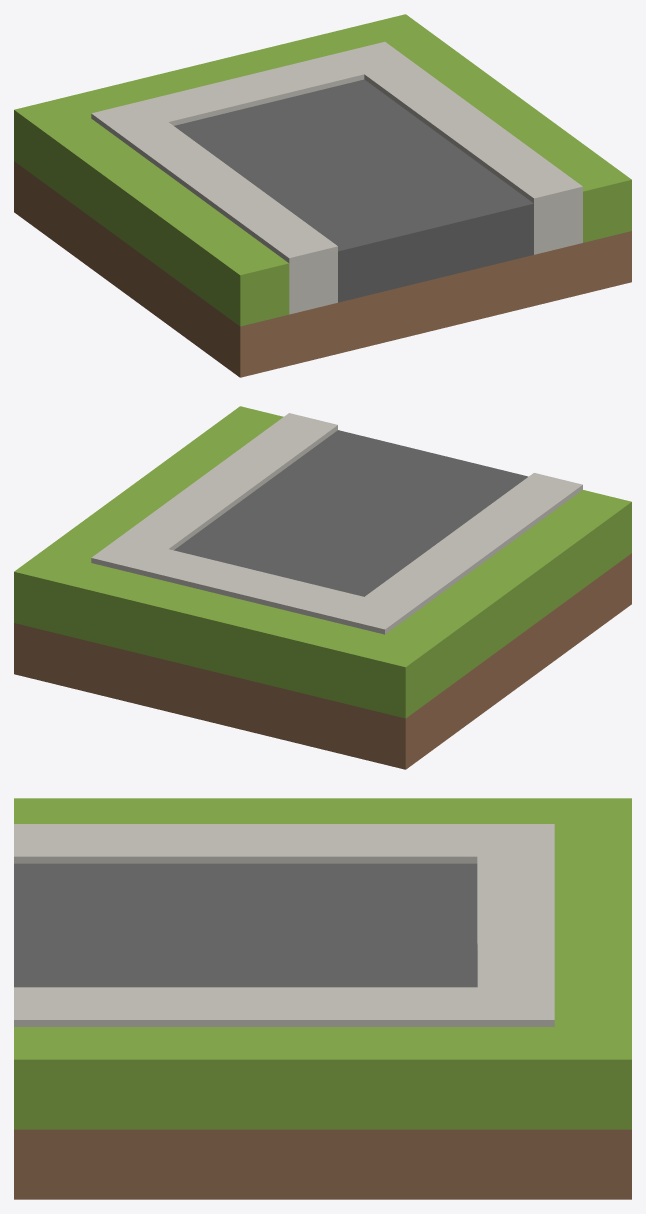
File: road-end-low.obj
3 renders of one model, top to bottom at view 1: azimuth 30°, elevation 25°; view 2: azimuth 150°, elevation 25°; view 3: azimuth 270°, elevation 25°, orthographic. The views are drawn at different scales.
Parts seen in each view (by area): view 1: road-end-low_Cube.001; view 2: road-end-low_Cube.001; view 3: road-end-low_Cube.001.
Part boxes in pixels (x1=…): road-end-low_Cube.001: x1=14, y1=14, x2=631, y2=377; road-end-low_Cube.001: x1=14, y1=406, x2=631, y2=769; road-end-low_Cube.001: x1=14, y1=798, x2=631, y2=1199.
Bounding box in the file's own units: 8 × 2.1 × 8.
1 material, 1 textured.
